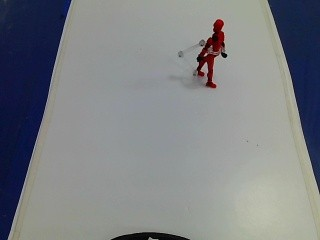pedestrian: (194, 14, 231, 101)
